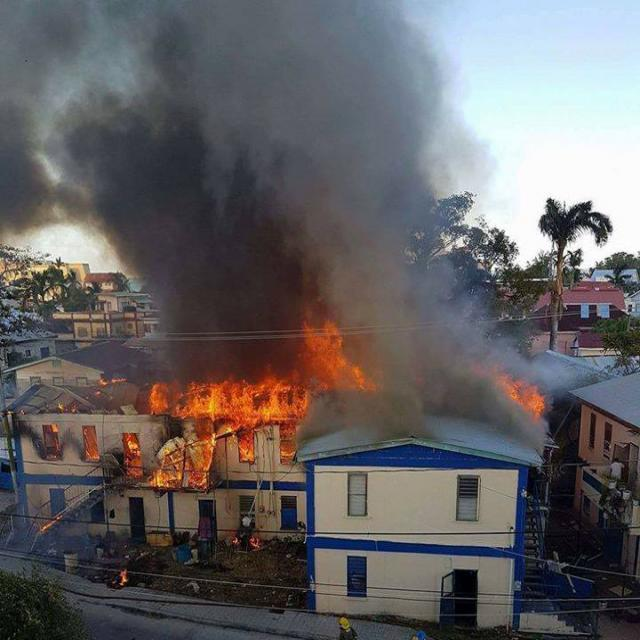Fire: (17, 320, 546, 488)
Smoke: (0, 0, 461, 319)
